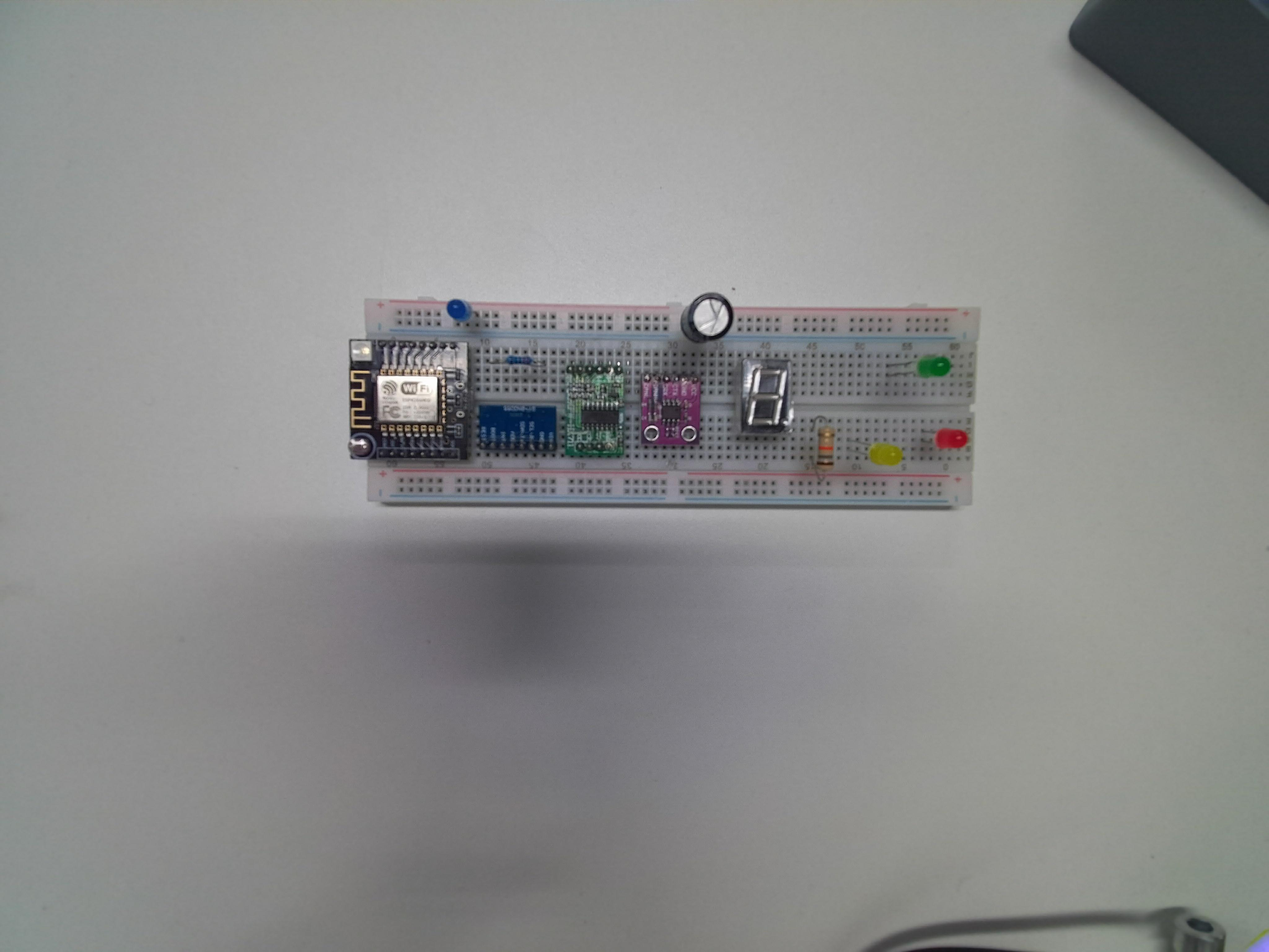base: (351, 292, 979, 518)
blue-board: (475, 399, 560, 456)
blue-led: (446, 298, 472, 324)
capacitor: (681, 291, 733, 346)
digit-board: (738, 355, 796, 433)
esp: (345, 337, 473, 462)
green-board: (560, 362, 631, 460)
green-led: (918, 355, 953, 380)
purple-board: (638, 369, 702, 449)
red-led: (936, 427, 970, 450)
resistor-big: (817, 424, 834, 471)
resistor-small: (507, 352, 534, 367)
yellow-led: (868, 442, 903, 467)
